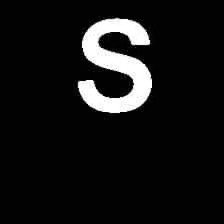LTR_S: (74, 12, 156, 119)
